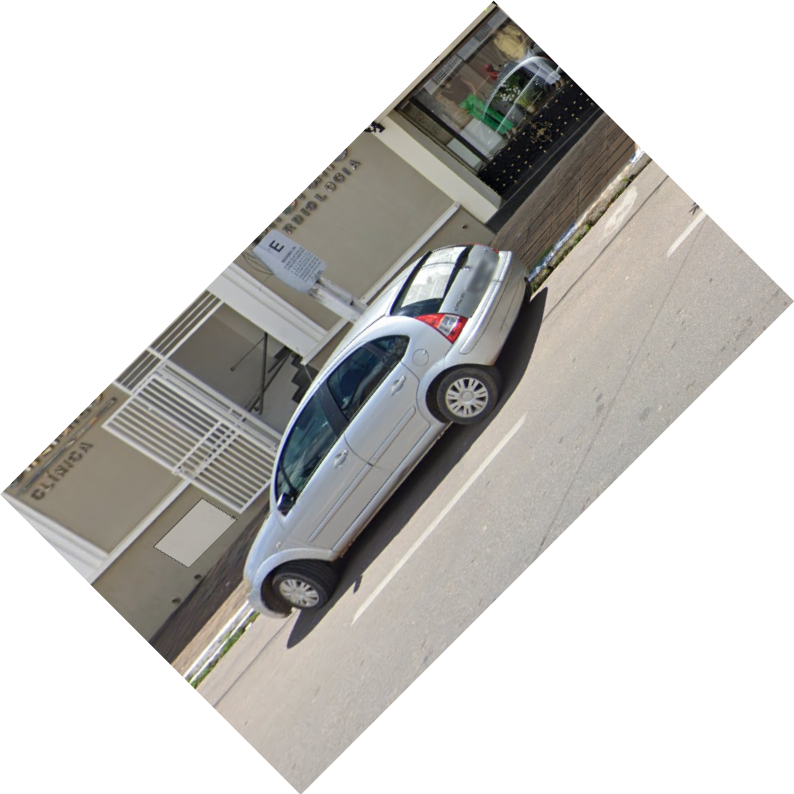car: (241, 239, 535, 649)
